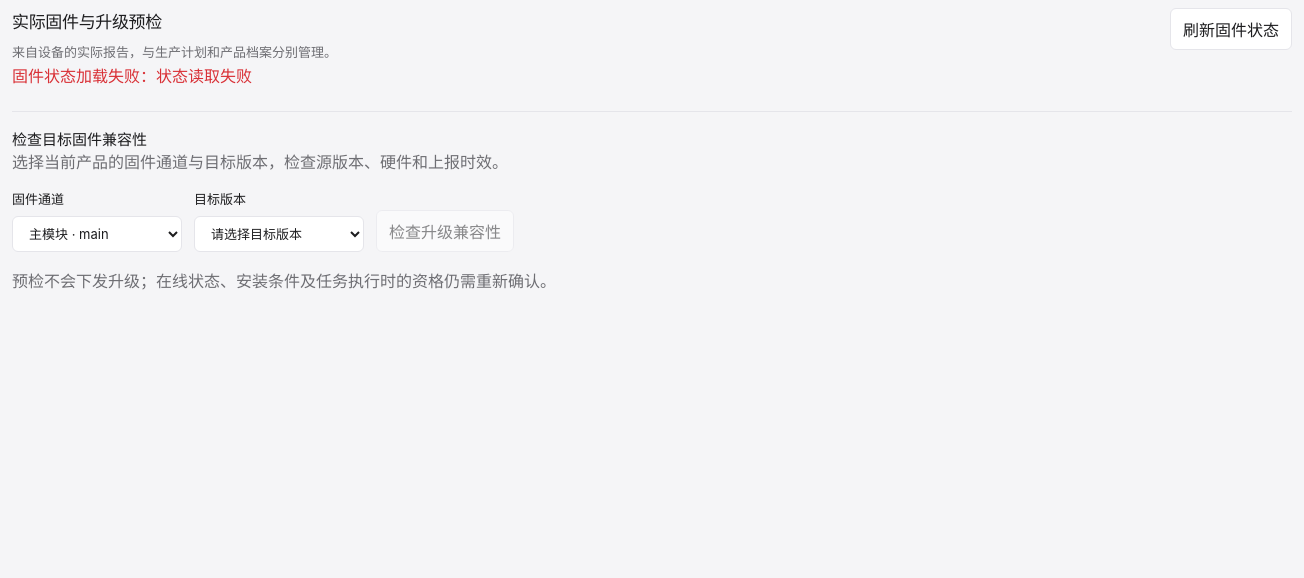
Test: shows failed reads and supports refreshing without making a failed snapshot actionable
Select "1.10.0 · 可用" in the dropdown named "预检目标版本". click: (279, 234)
box: [194,216,364,252]
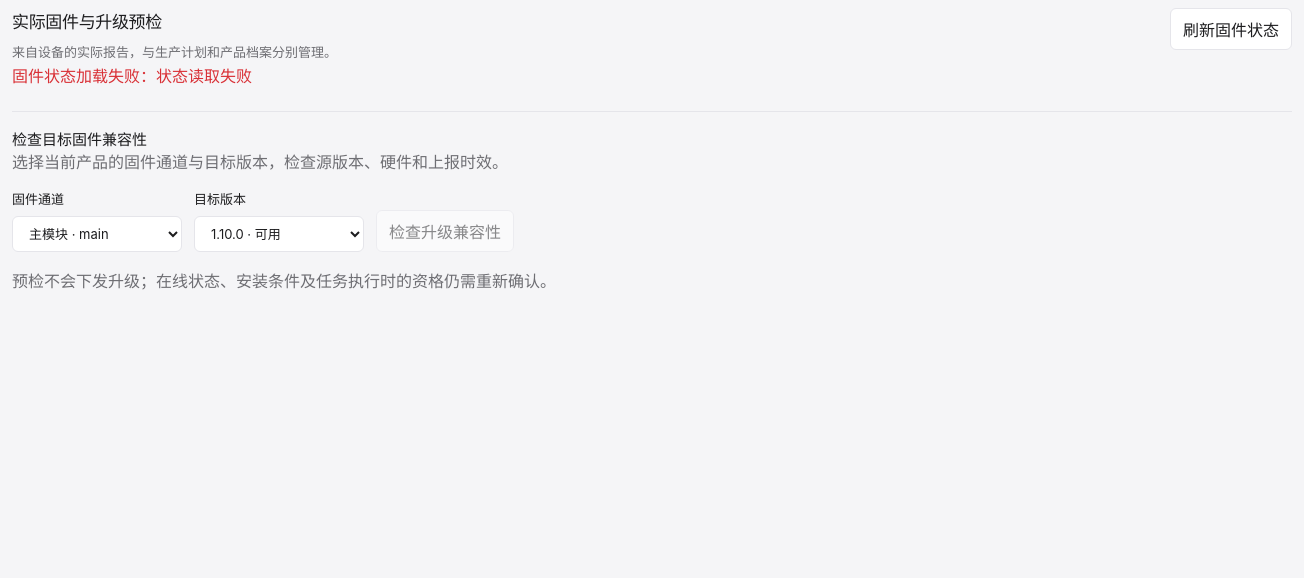
Expected: the text "固件状态加载失败" is shown, [12,66,252,86]
Expected: the button "检查升级兼容性" is disabled, [376,210,514,252]
Click the button "刷新固件状态". click: (1231, 29)
box: [1170,8,1292,50]
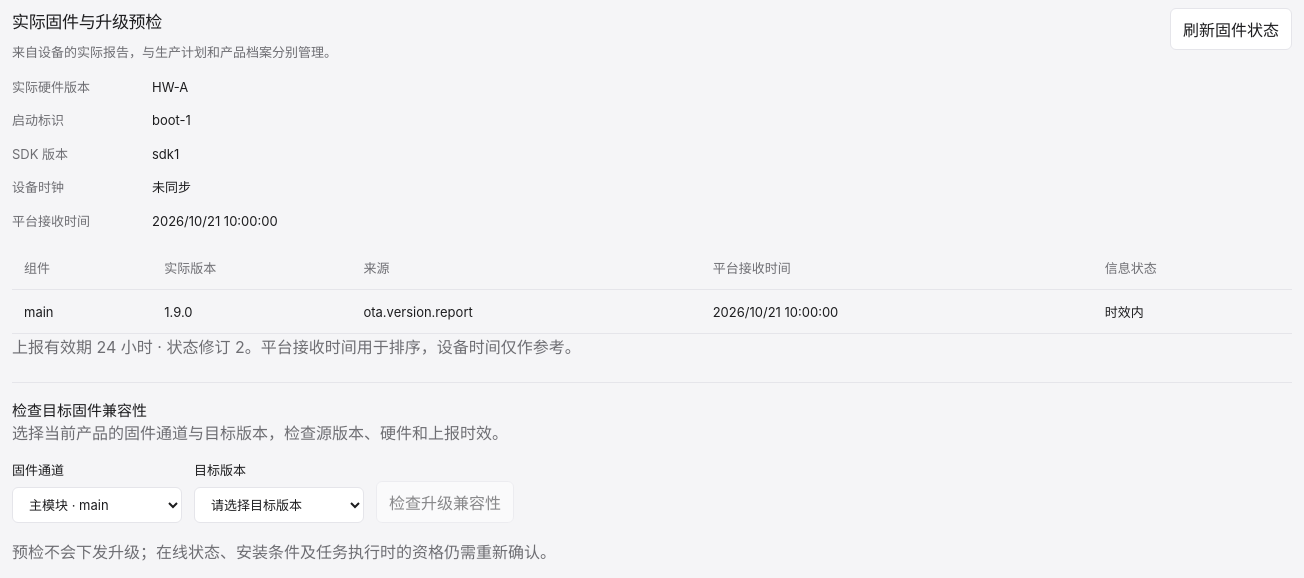
Now the text "HW-A" is shown, box [152,79,188,95]
Now the text "固件状态加载失败" is gone
